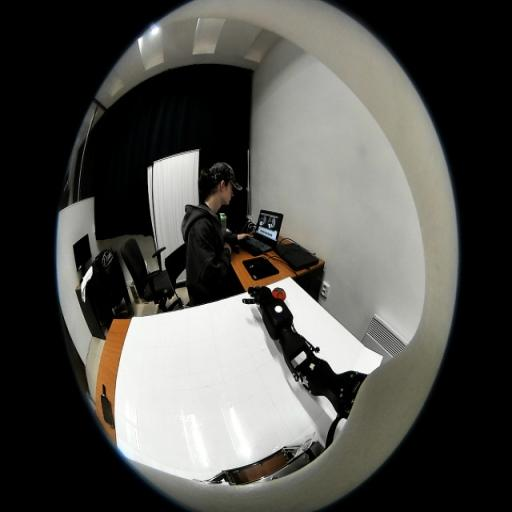RightHand: (256, 287, 270, 300)
Tomato: (272, 287, 286, 302)
